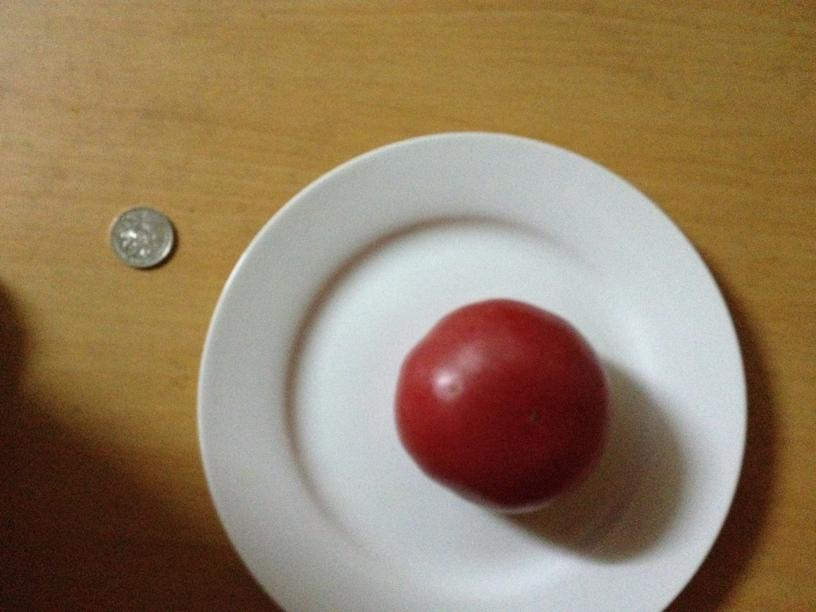coin: (105, 204, 175, 267)
tomato: (395, 302, 611, 514)
